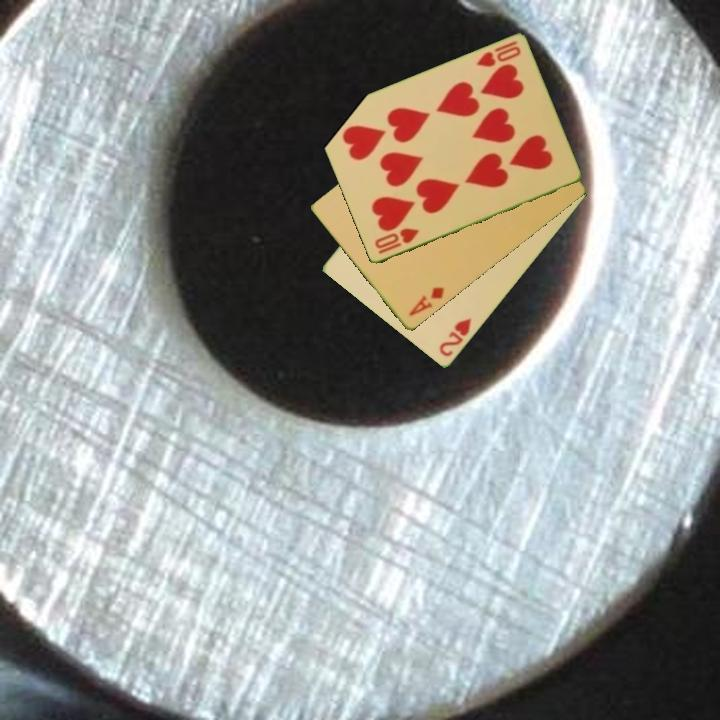10h: (371, 225, 422, 257), (473, 38, 524, 70)
2h: (436, 315, 475, 360)
Ad: (405, 283, 447, 320)
